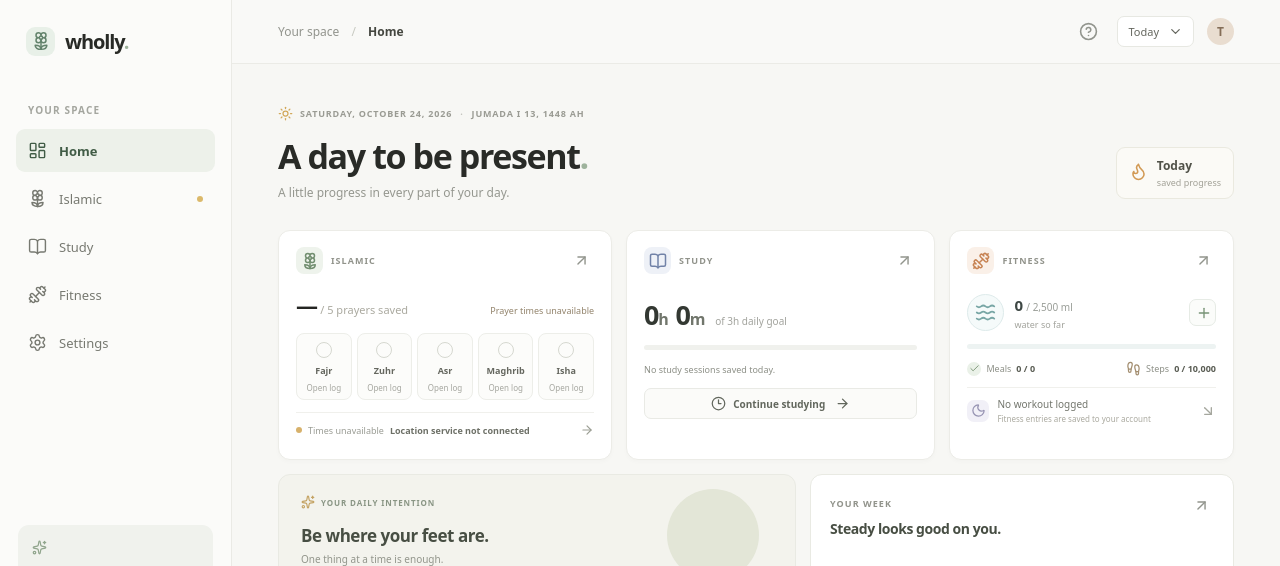
Test case: account-backed dashboard › saves Quran progress through the account API
Click the button "Islamic". click: (116, 198)
box: [16,177,215,220]
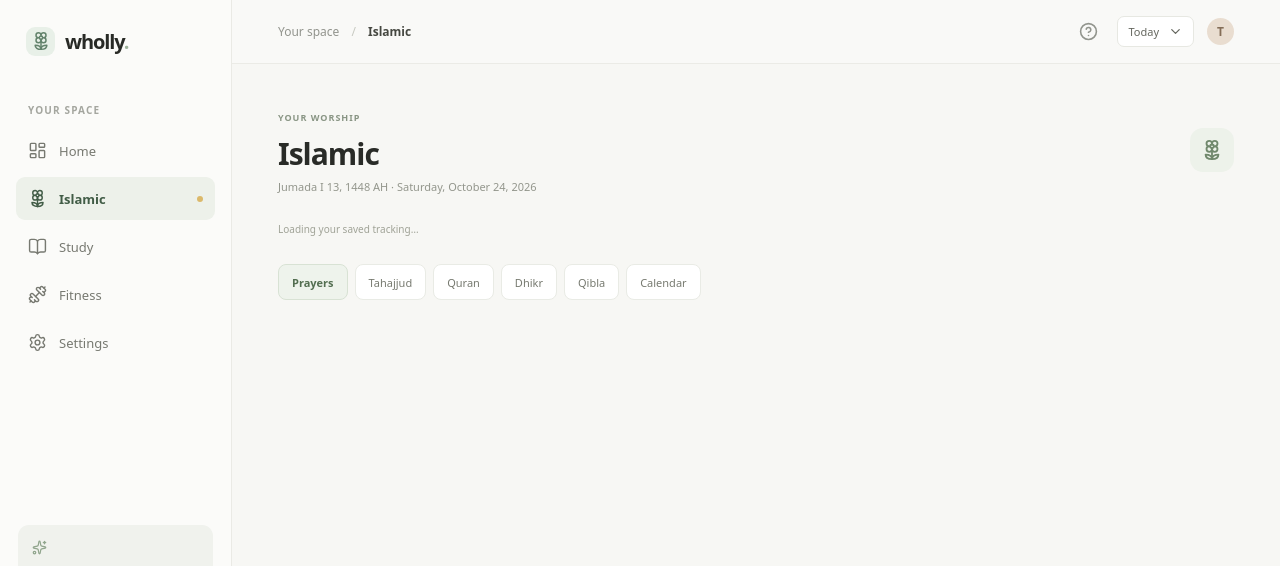
Click the button "Quran". click: (464, 282)
box: [433,264,494,300]
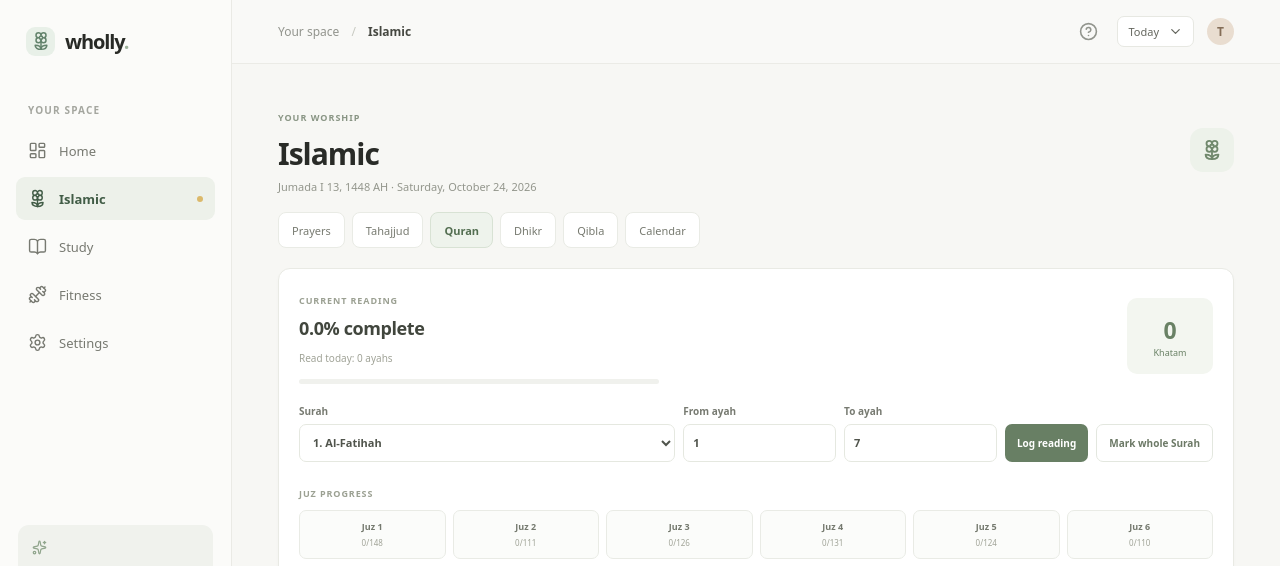
Click the button "Mark whole Surah". click: (1155, 442)
box: [1096,424,1213,462]
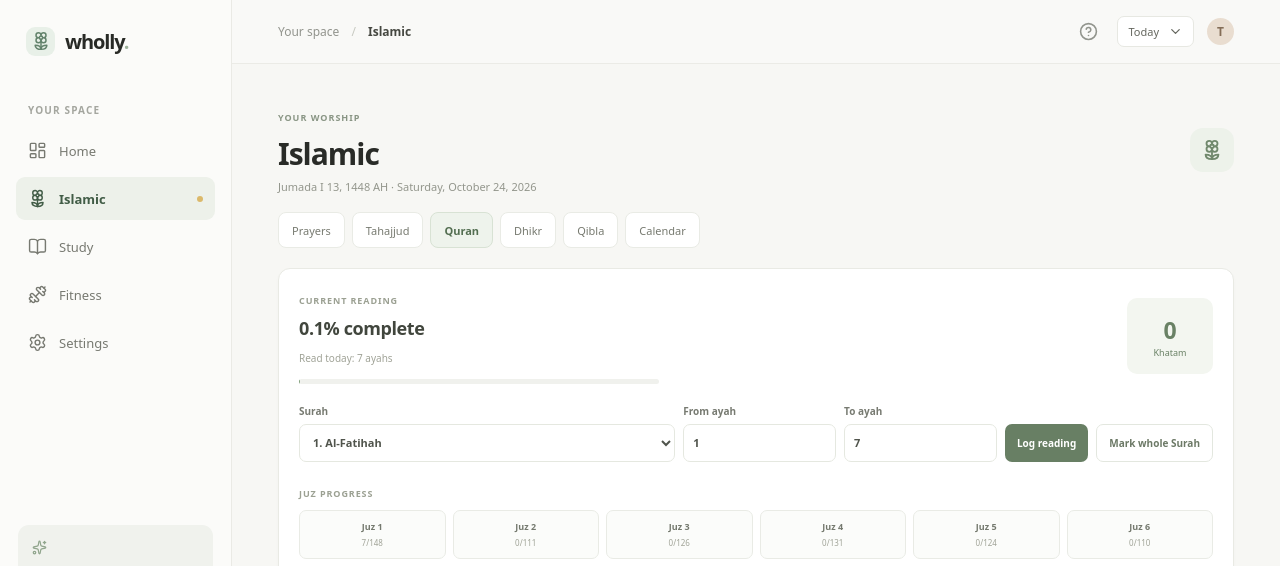
expect the heading "0.1% complete" is shown: met, box [299,316,424,340]
